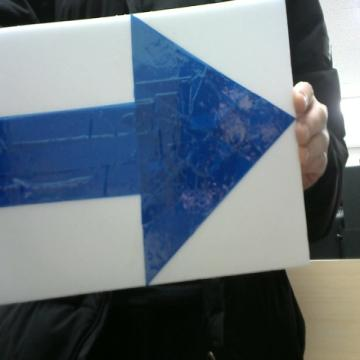blue_right: (0, 16, 294, 284)
